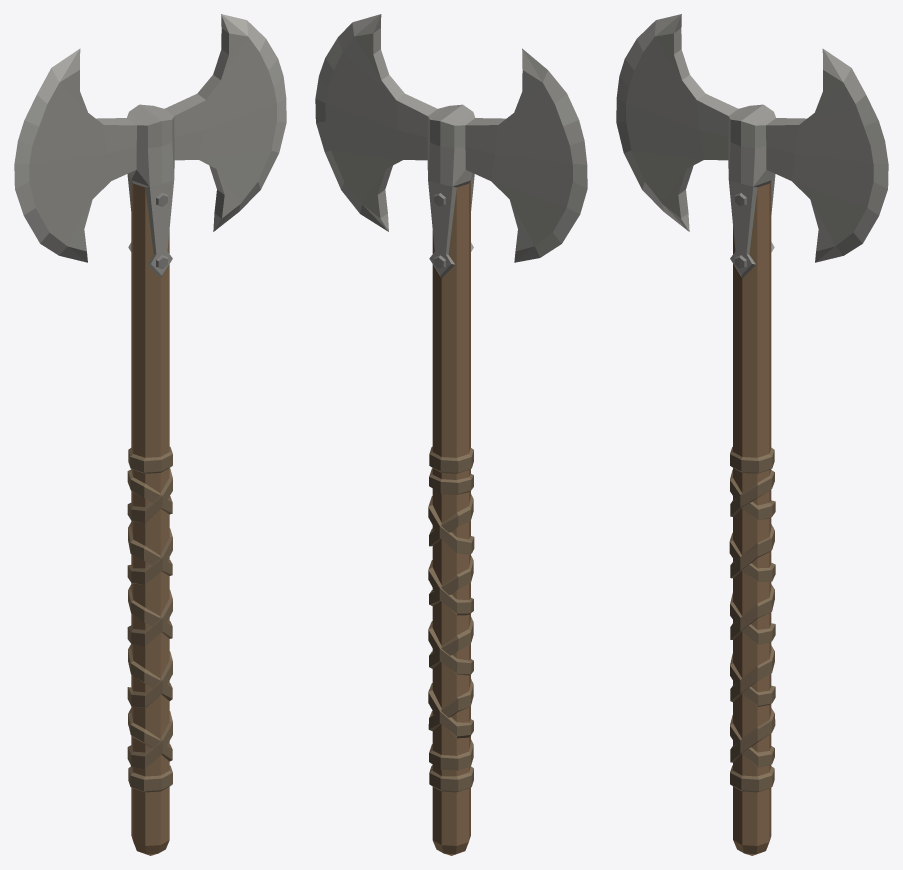
The model's file is SM_pwe_medieval_axe_04.fbx.
3 renders of one model, left to right at view 1: azimuth 30°, elevation 25°; view 2: azimuth 150°, elevation 25°; view 3: azimuth 330°, elevation 25°, orthographic.
Parts seen in each view (by area): view 1: SM_pwe_medieval_axe_04; view 2: SM_pwe_medieval_axe_04; view 3: SM_pwe_medieval_axe_04.
Boxes of the visible parts, box(x1,y1,x2,y2) form: SM_pwe_medieval_axe_04: box(14, 14, 286, 855); SM_pwe_medieval_axe_04: box(315, 14, 587, 855); SM_pwe_medieval_axe_04: box(616, 14, 888, 855).
Size of the model in its own units: 36.18 by 105 by 5.91.
